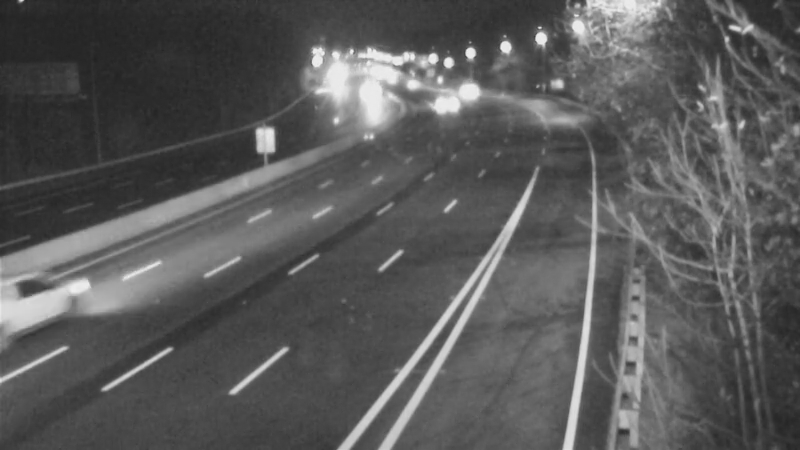vehicle: (382, 58, 432, 108), (446, 69, 496, 119), (424, 77, 474, 127), (343, 74, 393, 124)
